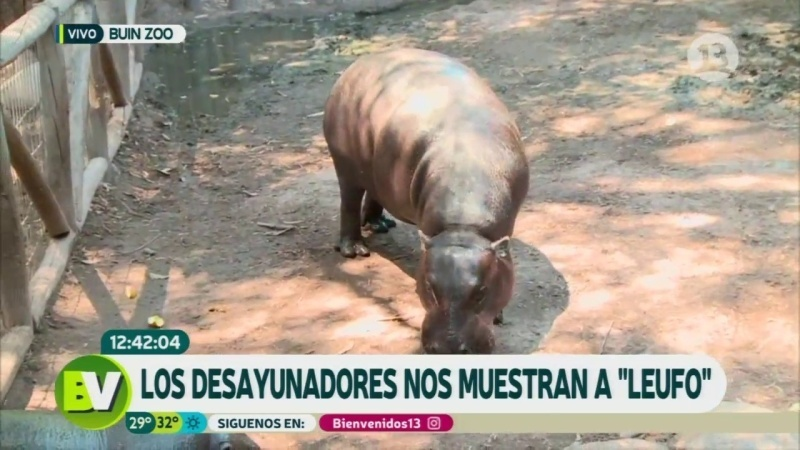hipopotamo: (305, 34, 581, 353)
